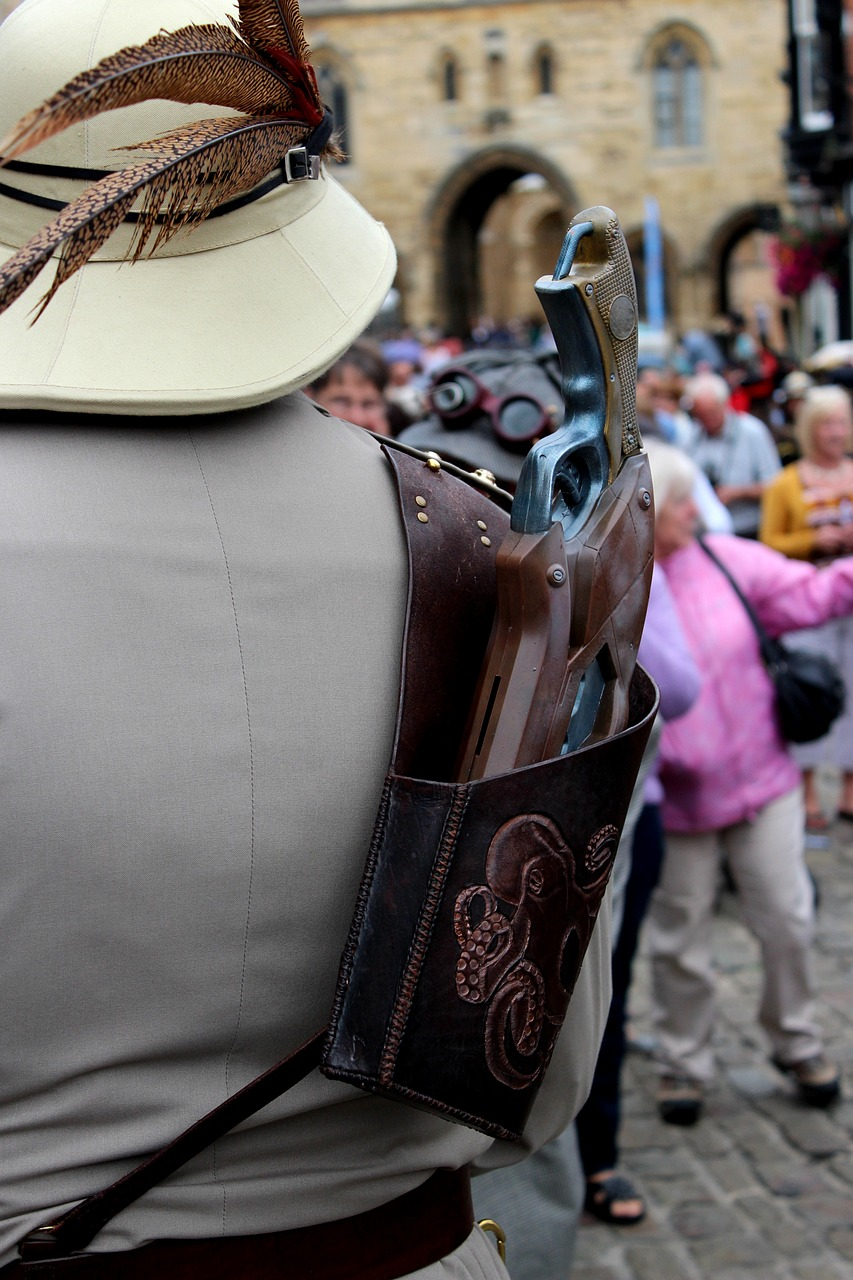gun: (452, 198, 661, 792)
